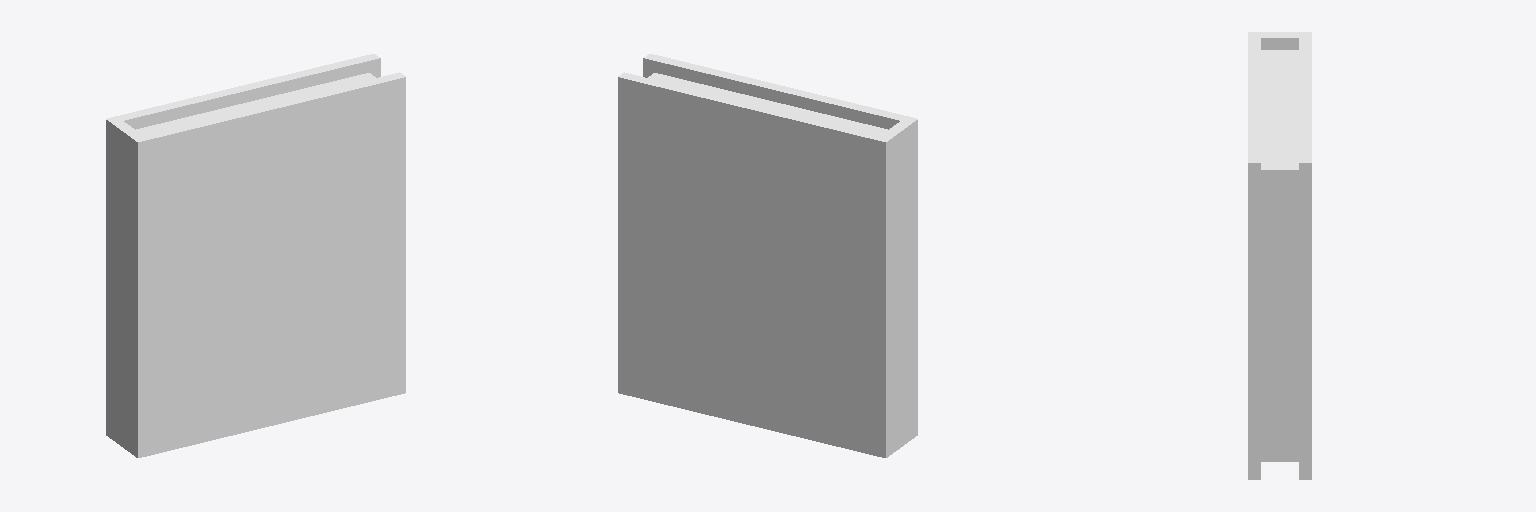
Rendered from LoreBook.obj.
The picture shows the model from 3 angles: view 1: azimuth 30°, elevation 25°; view 2: azimuth 150°, elevation 25°; view 3: azimuth 270°, elevation 25°; orthographic projection.
Size of the model in its own units: 24 by 27 by 5.